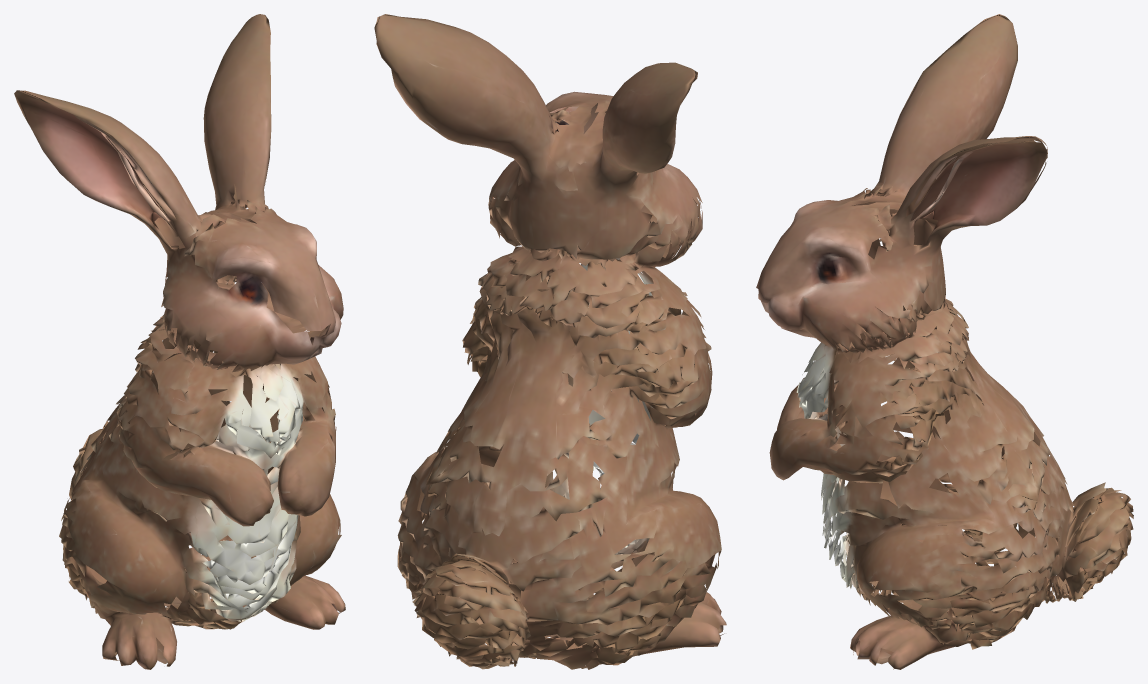
File: critter_rabbit.glb
3 views of the same model, side by side, from view 1: azimuth 30°, elevation 25°; view 2: azimuth 150°, elevation 25°; view 3: azimuth 270°, elevation 25° (orthographic). The views are drawn at different scales.
Visible parts, largest first — view 1: world; view 2: world; view 3: world.
Boxes of the visible parts, x1=… form: world: x1=14, y1=14, x2=345, y2=669; world: x1=374, y1=14, x2=726, y2=669; world: x1=756, y1=14, x2=1133, y2=669.
Size of the model in its own units: 0.5262 by 0.9985 by 0.6411.
1 material, 1 textured.
